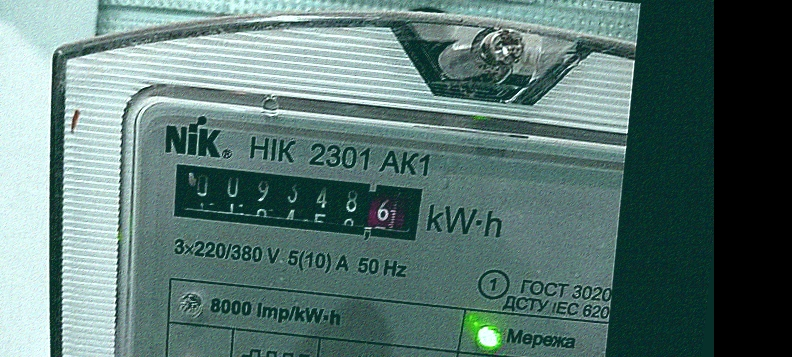0: (192, 170, 210, 198), (223, 171, 239, 198)
3: (283, 178, 300, 204)
4: (310, 178, 331, 210)
6: (372, 193, 392, 223)
8: (342, 184, 359, 214)
9: (253, 177, 270, 205)
screen: (152, 147, 436, 252)
